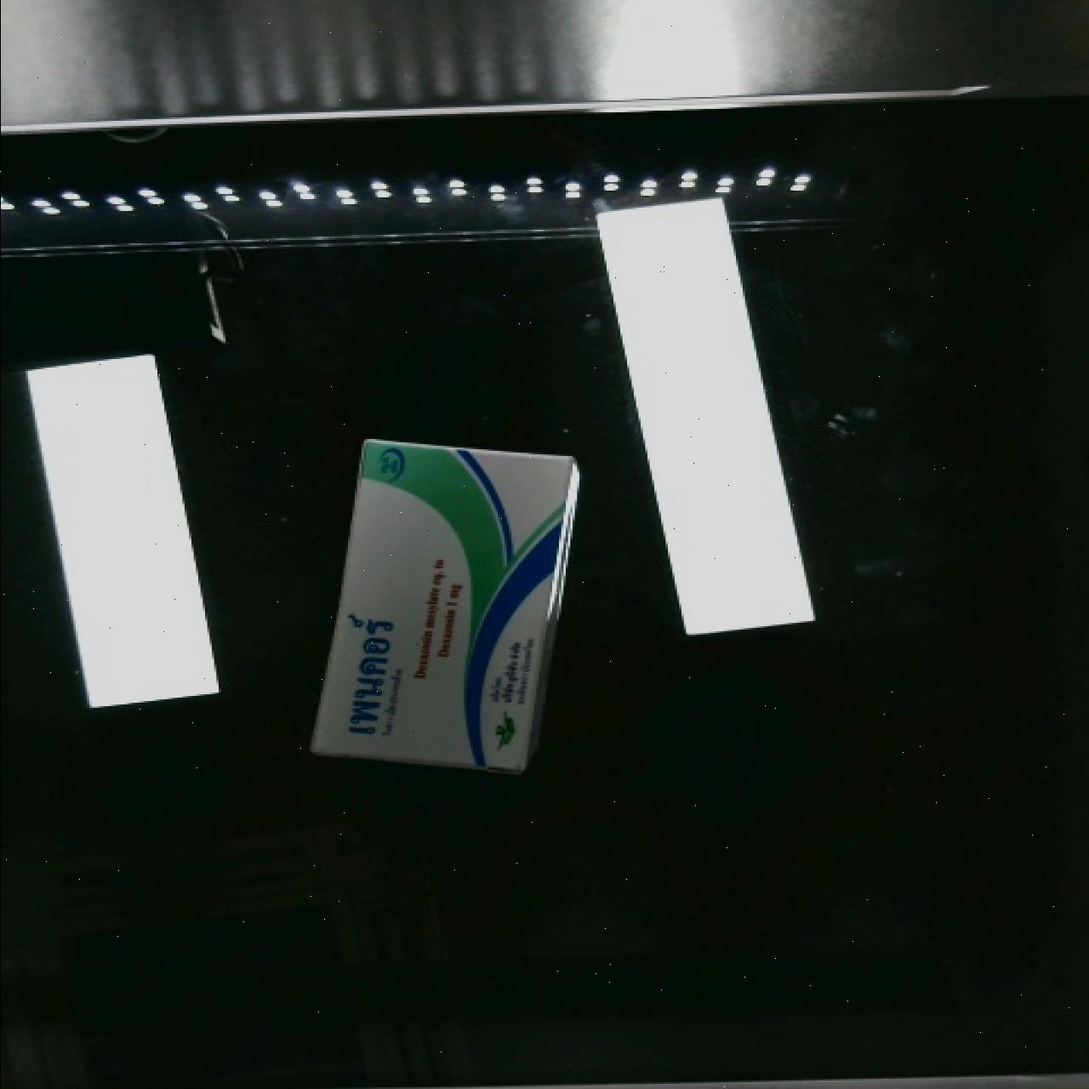medicine_label_obb: (323, 587, 413, 761)
